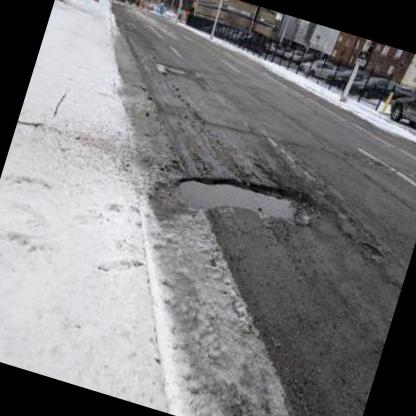pothole: (168, 155, 318, 239)
